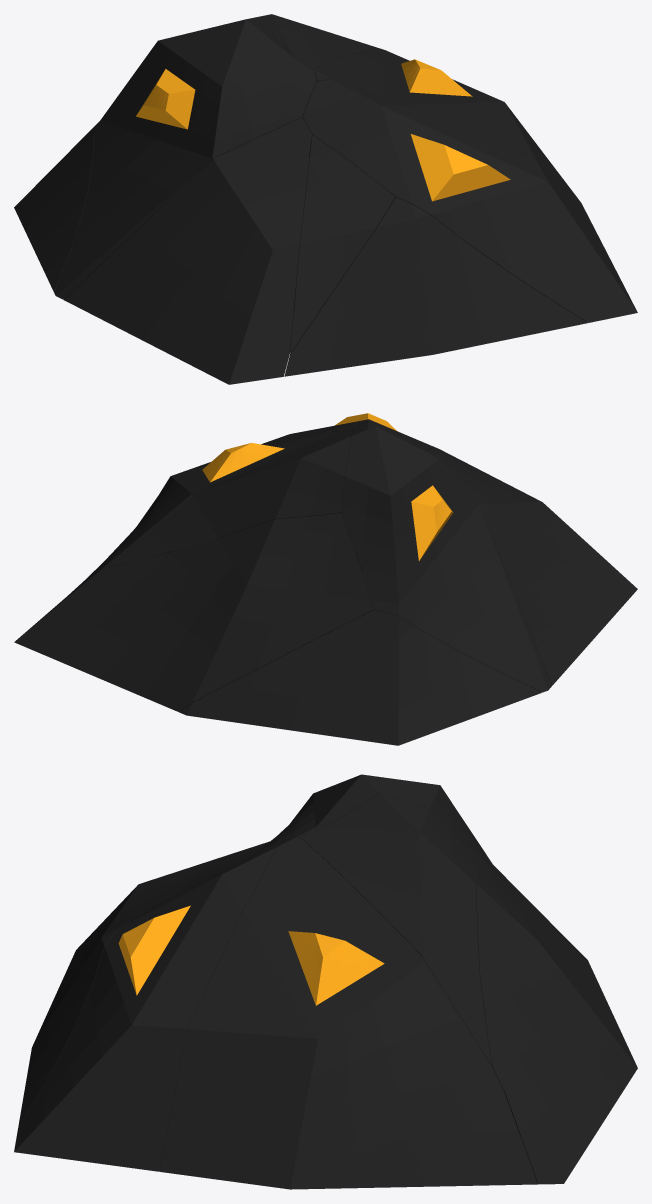
File: OreBreakable.fbx
The picture shows the model from 3 angles, top to bottom: view 1: azimuth 30°, elevation 25°; view 2: azimuth 150°, elevation 25°; view 3: azimuth 270°, elevation 25°; orthographic projection. The views are drawn at different scales.
Visible parts, largest first — view 1: KousekiBreakable_cell.003, KousekiBreakable_cell, KousekiBreakable_cell.006, KousekiBreakable_cell.007, KousekiBreakable_cell.005, KousekiBreakable_cell.004, KousekiBreakable_cell.008, KousekiBreakable_cell.011, KousekiBreakable_cell.002, KousekiBreakable_cell.009, KousekiBreakable_cell.010; view 2: KousekiBreakable_cell.001, KousekiBreakable_cell, KousekiBreakable_cell.008, KousekiBreakable_cell.003, KousekiBreakable_cell.002, KousekiBreakable_cell.004, KousekiBreakable_cell.009, KousekiBreakable_cell.010, KousekiBreakable_cell.006, KousekiBreakable_cell.005; view 3: KousekiBreakable_cell.004, KousekiBreakable_cell.006, KousekiBreakable_cell.001, KousekiBreakable_cell.002, KousekiBreakable_cell, KousekiBreakable_cell.007, KousekiBreakable_cell.010, KousekiBreakable_cell.008, KousekiBreakable_cell.011, KousekiBreakable_cell.003, KousekiBreakable_cell.005.
Part boxes in pixels (x1,y1,x2,y2): KousekiBreakable_cell.003: [64, 117, 311, 384]; KousekiBreakable_cell: [54, 17, 316, 299]; KousekiBreakable_cell.006: [303, 79, 637, 322]; KousekiBreakable_cell.007: [284, 197, 587, 376]; KousekiBreakable_cell.005: [290, 134, 395, 353]; KousekiBreakable_cell.004: [313, 48, 607, 253]; KousekiBreakable_cell.008: [14, 128, 93, 292]; KousekiBreakable_cell.011: [410, 134, 510, 201]; KousekiBreakable_cell.002: [255, 14, 378, 68]; KousekiBreakable_cell.009: [136, 69, 195, 129]; KousekiBreakable_cell.010: [401, 59, 472, 96]; KousekiBreakable_cell.001: [14, 512, 374, 711]; KousekiBreakable_cell: [342, 426, 551, 692]; KousekiBreakable_cell.008: [178, 609, 541, 745]; KousekiBreakable_cell.003: [448, 468, 637, 685]; KousekiBreakable_cell.002: [111, 436, 351, 566]; KousekiBreakable_cell.004: [38, 429, 367, 621]; KousekiBreakable_cell.009: [411, 485, 453, 560]; KousekiBreakable_cell.010: [202, 443, 284, 482]; KousekiBreakable_cell.006: [261, 419, 432, 451]; KousekiBreakable_cell.005: [426, 448, 522, 491]; KousekiBreakable_cell.004: [160, 837, 537, 1189]; KousekiBreakable_cell.006: [14, 841, 283, 1171]; KousekiBreakable_cell.001: [455, 836, 633, 1184]; KousekiBreakable_cell.002: [300, 793, 492, 1065]; KousekiBreakable_cell: [260, 774, 505, 881]; KousekiBreakable_cell.007: [18, 919, 130, 1126]; KousekiBreakable_cell.010: [288, 931, 384, 1005]; KousekiBreakable_cell.008: [501, 873, 637, 1073]; KousekiBreakable_cell.011: [118, 905, 190, 995]; KousekiBreakable_cell.003: [64, 841, 269, 975]; KousekiBreakable_cell.005: [75, 864, 235, 963].
Size of the model in its own units: 2.35 by 1.07 by 2.38.
